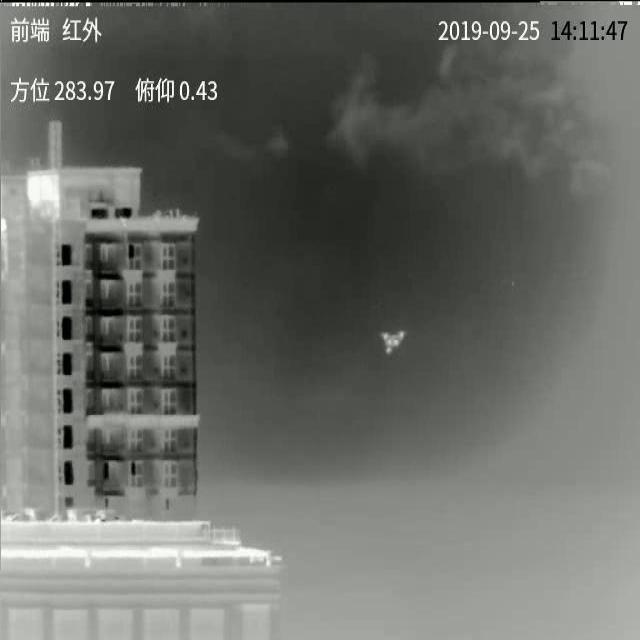drone: (378, 330, 407, 355)
